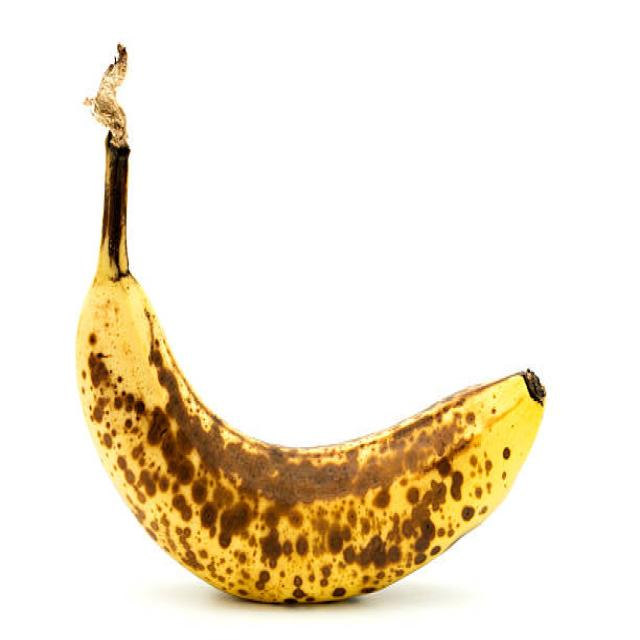overripe: (70, 130, 550, 612)
